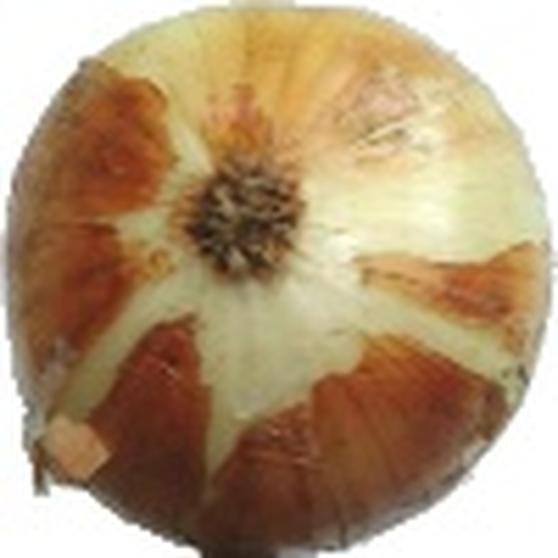onion: (2, 3, 554, 558)
